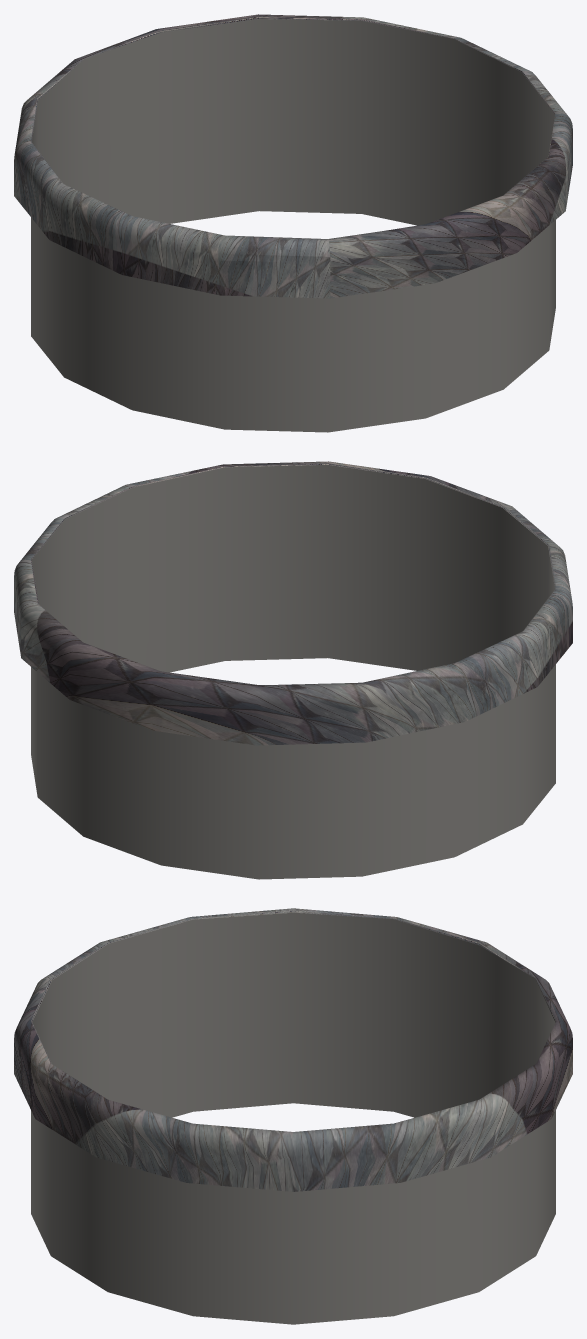
Rendered from hole.FBX.
The picture shows the model from 3 angles, top to bottom: view 1: azimuth 30°, elevation 25°; view 2: azimuth 150°, elevation 25°; view 3: azimuth 270°, elevation 25°; orthographic projection.
Parts seen in each view (by area): view 1: keskikolo; view 2: keskikolo; view 3: keskikolo.
Part boxes in pixels (x1=…): keskikolo: x1=14, y1=14, x2=572, y2=432; keskikolo: x1=14, y1=461, x2=572, y2=879; keskikolo: x1=14, y1=908, x2=572, y2=1324.
Bounding box in the file's own units: 77.52 × 29.47 × 77.52.
1 material, 1 textured.
